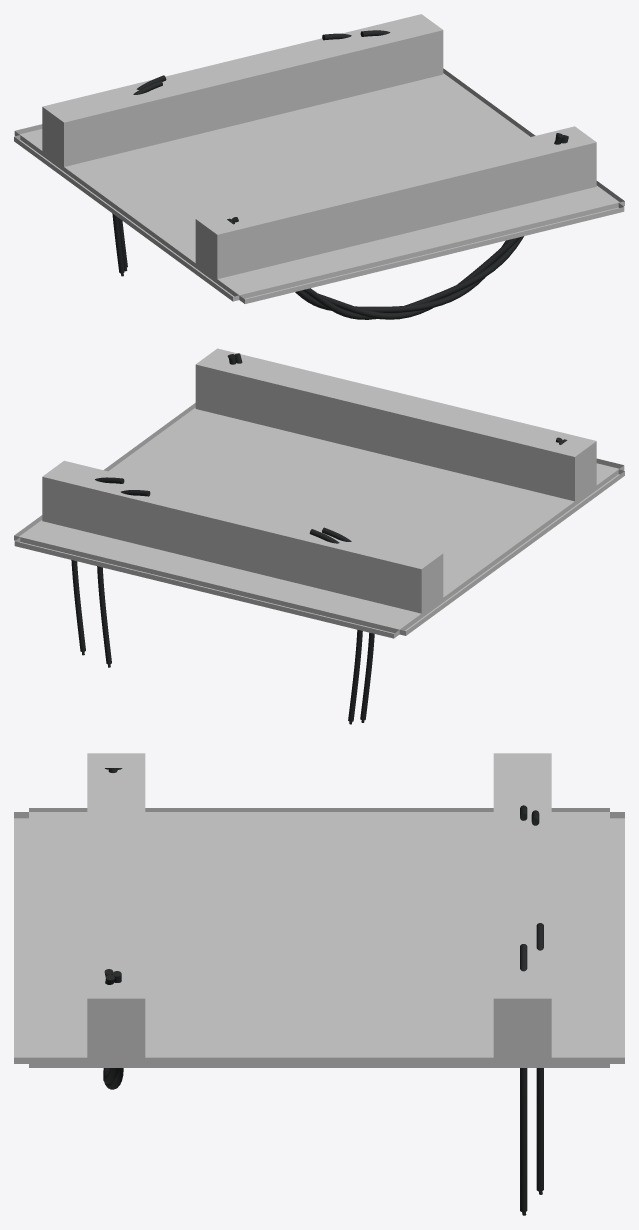
Rendered from office_ceiling_type3.fbx.
3 views of the same model, one above another, from view 1: azimuth 30°, elevation 25°; view 2: azimuth 150°, elevation 25°; view 3: azimuth 270°, elevation 25° (orthographic). The views are drawn at different scales.
Visible parts, largest first — view 1: Floor1, pCylinder14; view 2: Floor1, pCylinder14; view 3: Floor1, pCylinder14.
Boxes of the visible parts, box(x1,y1,x2,y2) form: Floor1: box(14, 14, 624, 303); pCylinder14: box(112, 30, 568, 319); Floor1: box(14, 348, 624, 638); pCylinder14: box(71, 353, 567, 724); Floor1: box(14, 753, 624, 1067); pCylinder14: box(103, 768, 543, 1215).
Bounding box in the file's own units: 3.1 × 1.4 × 3.16.
